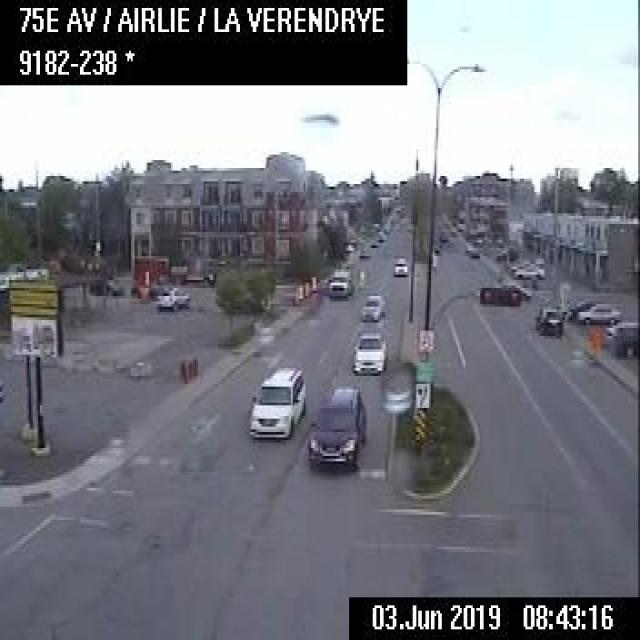construction: (586, 328, 604, 362), (179, 358, 186, 382), (308, 272, 316, 292), (185, 358, 192, 378), (190, 356, 197, 376), (302, 276, 309, 296), (296, 280, 303, 299)
vehicle: (305, 383, 367, 472), (245, 364, 305, 438), (351, 331, 385, 373), (604, 320, 638, 358), (532, 301, 564, 336), (576, 300, 621, 322), (356, 290, 386, 322), (325, 266, 351, 298), (89, 272, 122, 296), (155, 286, 188, 310), (561, 297, 594, 318), (513, 262, 544, 280), (391, 256, 407, 277), (467, 244, 480, 258), (356, 247, 369, 259), (368, 236, 380, 248)
